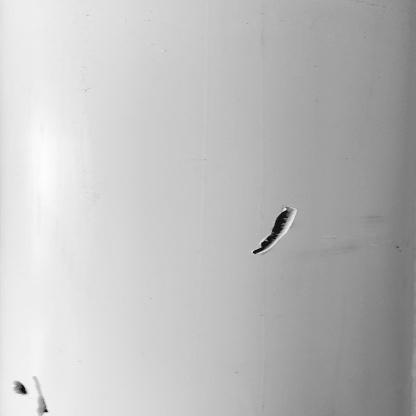fengxi: (33, 373, 53, 416)
kongdong: (239, 202, 302, 257), (9, 374, 29, 398)
